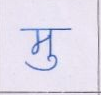u_matra: (25, 55, 61, 71)
